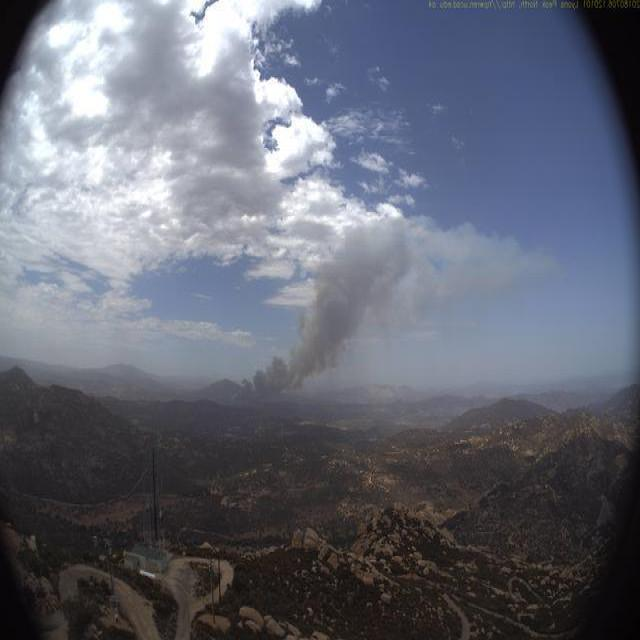smoke: (209, 209, 487, 415)
